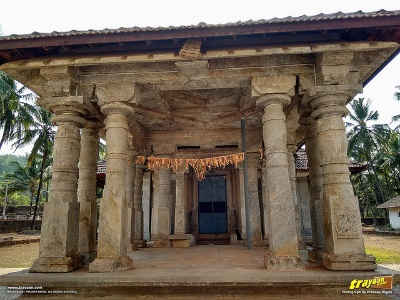mandapa: (5, 19, 385, 262)
